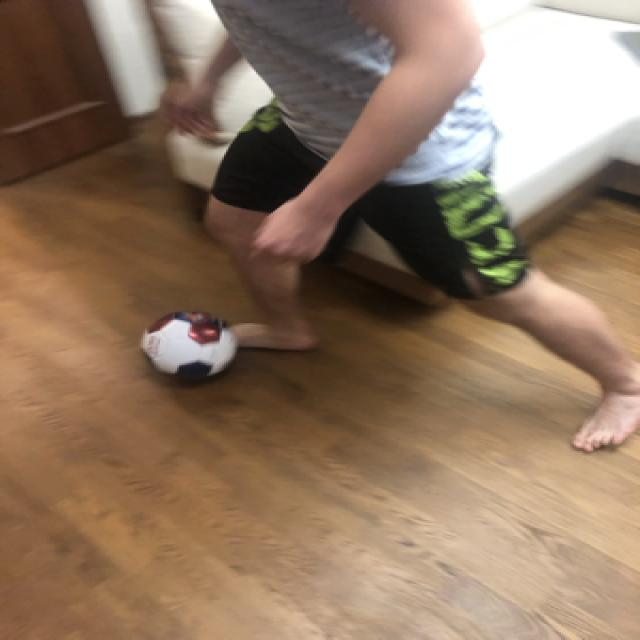soccer_ball: (136, 306, 237, 379)
